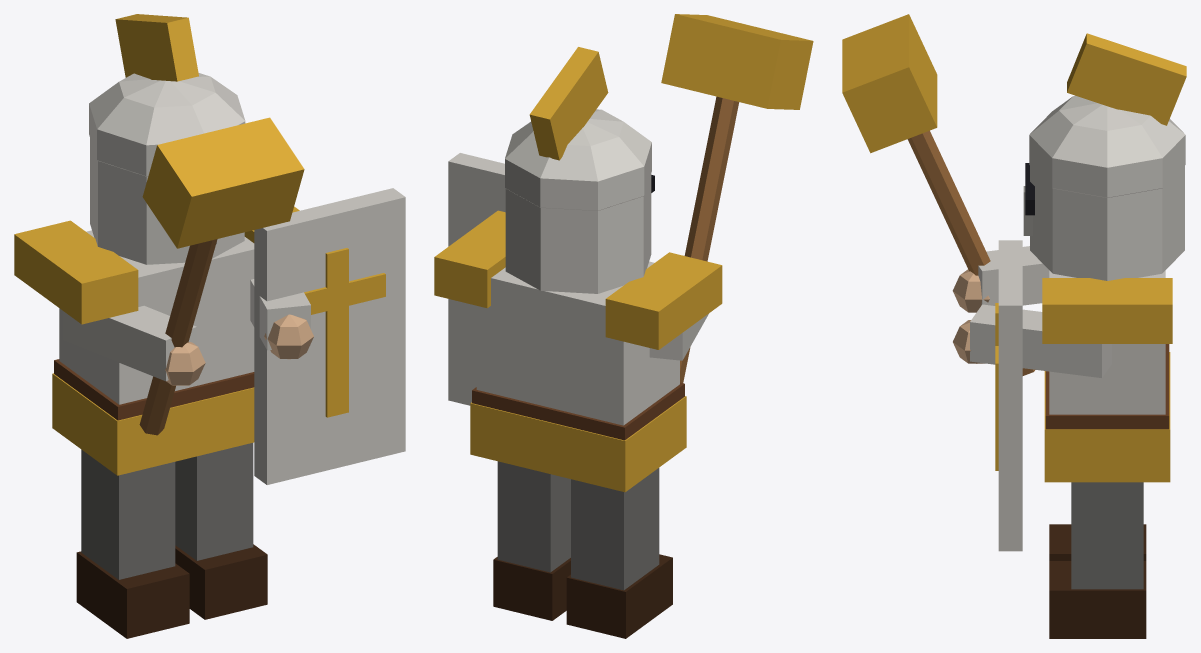
File: u_paladin.fbx
3 renders of one model, left to right at view 1: azimuth 30°, elevation 25°; view 2: azimuth 150°, elevation 25°; view 3: azimuth 270°, elevation 25°, orthographic. The views are drawn at different scales.
Parts seen in each view (by area): view 1: u_paladin_Body, u_paladin_LegR, u_paladin_LegL; view 2: u_paladin_Body, u_paladin_LegR, u_paladin_LegL; view 3: u_paladin_Body, u_paladin_LegL, u_paladin_LegR.
Boxes of the visible parts, <box> form: u_paladin_Body: <box>14,14,405,484</box>; u_paladin_LegR: <box>76,449,189,638</box>; u_paladin_LegL: <box>175,443,267,619</box>; u_paladin_Body: <box>434,14,813,492</box>; u_paladin_LegR: <box>566,468,672,638</box>; u_paladin_LegL: <box>493,461,570,620</box>; u_paladin_Body: <box>842,14,1186,551</box>; u_paladin_LegL: <box>1049,482,1146,638</box>; u_paladin_LegR: <box>1049,524,1146,560</box>.
Bounding box in the file's own units: 0.695 × 1.29 × 0.7122.
